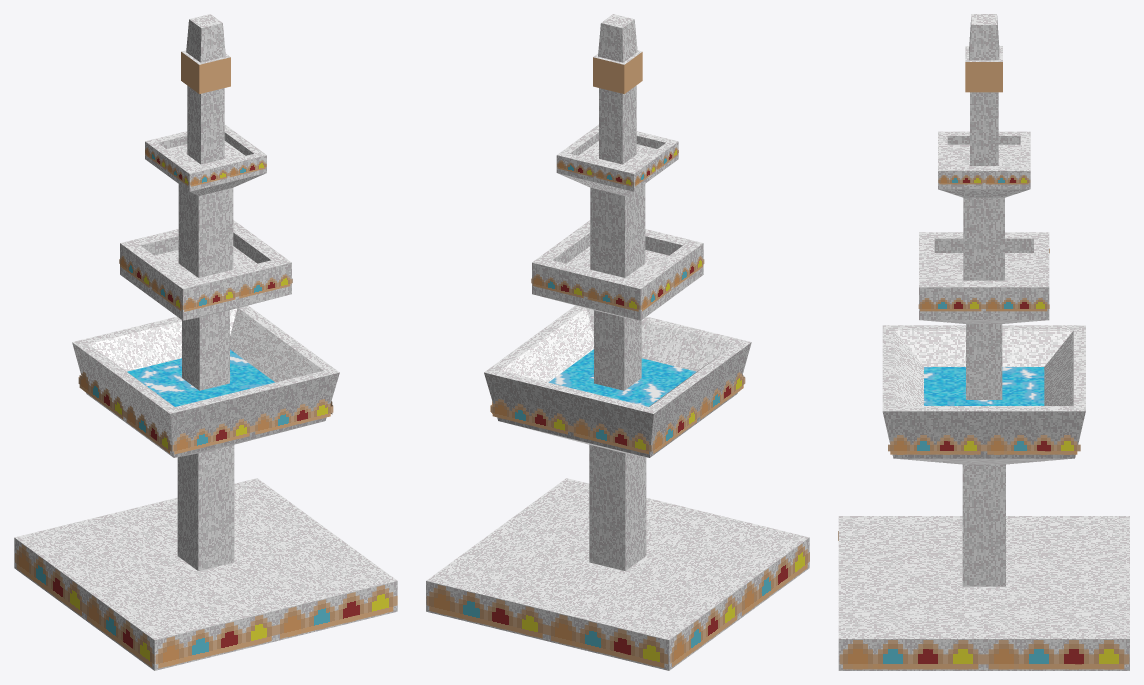
File: BGN_STATUE CUP.fbx
The picture shows the model from 3 angles, left to right: view 1: azimuth 30°, elevation 25°; view 2: azimuth 150°, elevation 25°; view 3: azimuth 270°, elevation 25°; orthographic projection. The views are drawn at different scales.
Parts seen in each view (by area): view 1: BGN_STATUE_CUP; view 2: BGN_STATUE_CUP; view 3: BGN_STATUE_CUP.
Boxes of the visible parts, x1=… form: BGN_STATUE_CUP: x1=14, y1=14, x2=397, y2=670; BGN_STATUE_CUP: x1=426, y1=14, x2=809, y2=670; BGN_STATUE_CUP: x1=838, y1=14, x2=1129, y2=670.
Size of the model in its own units: 264 by 590 by 265.
